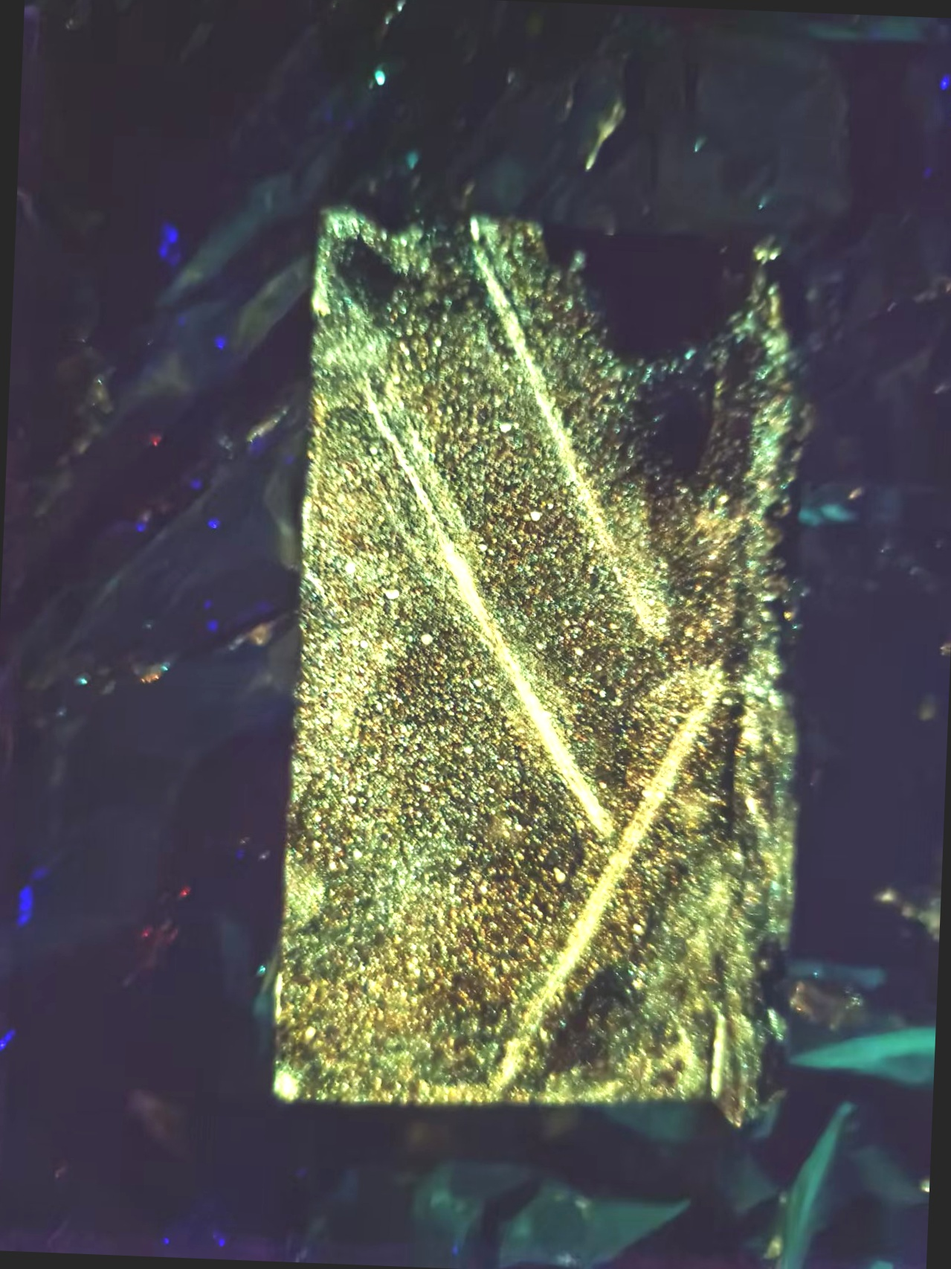Fissure: (336, 367, 656, 864), (501, 649, 741, 1104), (443, 222, 683, 628)
